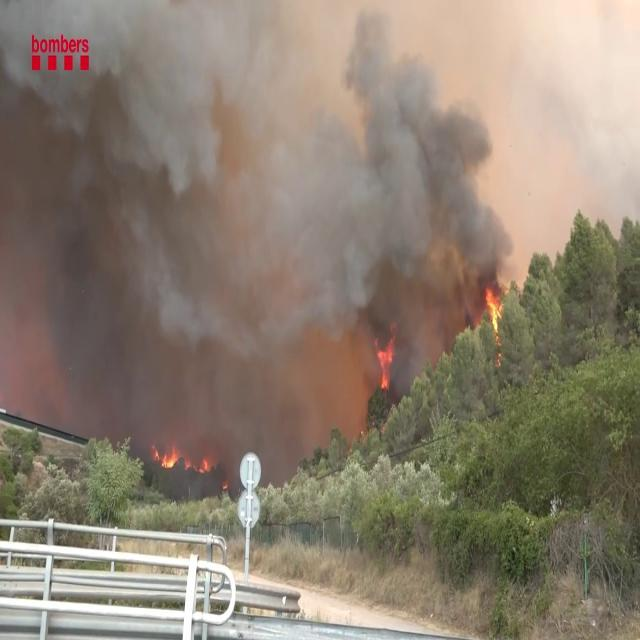Fire: (154, 438, 216, 476), (373, 330, 401, 400), (482, 280, 506, 345)
Smoke: (0, 1, 510, 453)
